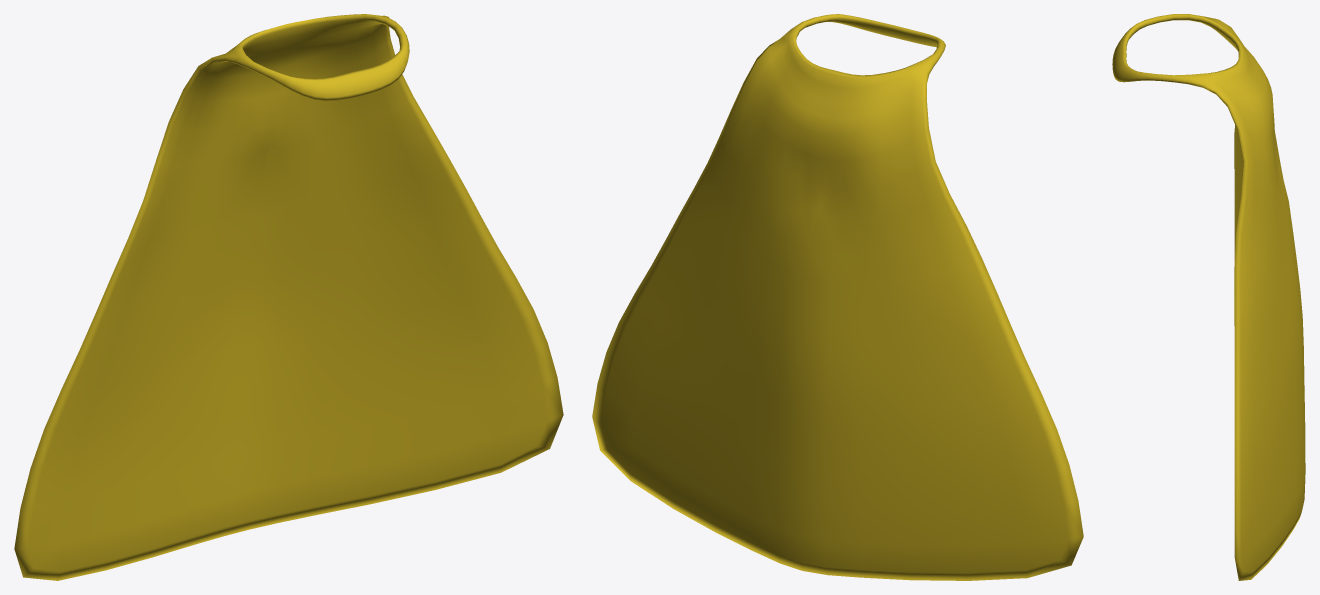
Rendered from cape2.FBX.
3 views of the same model, side by side, from view 1: azimuth 30°, elevation 25°; view 2: azimuth 150°, elevation 25°; view 3: azimuth 270°, elevation 25° (orthographic). The views are drawn at different scales.
Parts seen in each view (by area): view 1: cape001; view 2: cape001; view 3: cape001.
Boxes of the visible parts, left/top/right/bottom form: cape001: left=14, top=14, right=563, bottom=580; cape001: left=592, top=14, right=1083, bottom=580; cape001: left=1112, top=14, right=1305, bottom=580.
Bounding box in the file's own units: 31.87 × 30.01 × 11.33.
